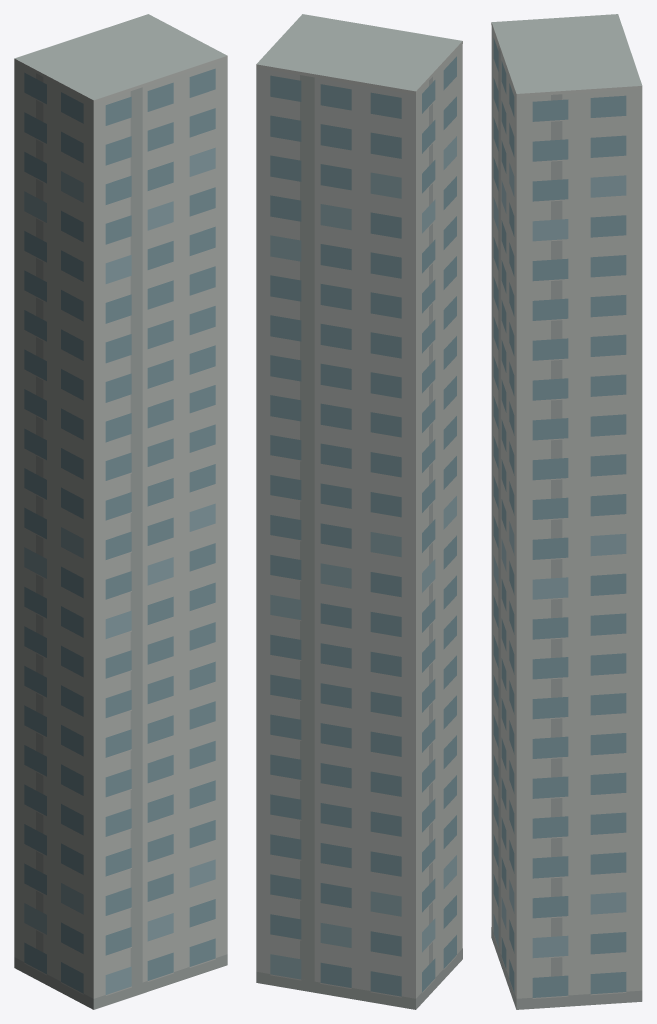
The model's file is survey-upis-32555512.glb.
3 renders of one model, left to right at view 1: azimuth 30°, elevation 25°; view 2: azimuth 150°, elevation 25°; view 3: azimuth 270°, elevation 25°, orthographic.
Parts seen in each view (by area): view 1: survey-upis-32555512.tmp; view 2: survey-upis-32555512.tmp; view 3: survey-upis-32555512.tmp.
Part boxes in pixels (<box>): survey-upis-32555512.tmp: <box>14,14,227,1009</box>; survey-upis-32555512.tmp: <box>256,14,462,1009</box>; survey-upis-32555512.tmp: <box>491,14,642,1009</box>.
Size of the model in its own units: 13.15 by 70.15 by 10.48.
